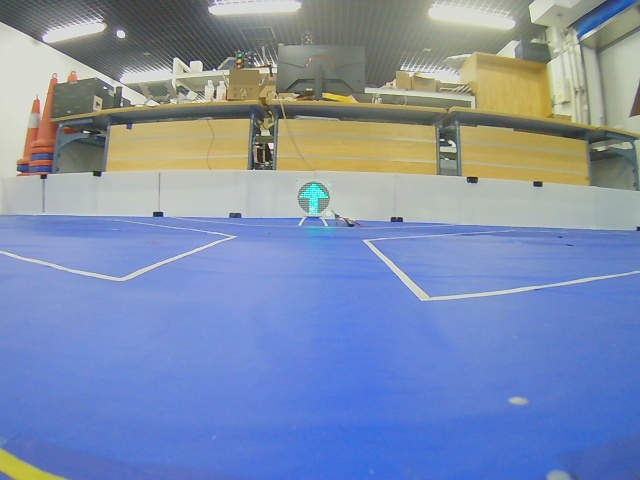straight_green: (298, 181, 330, 215)
